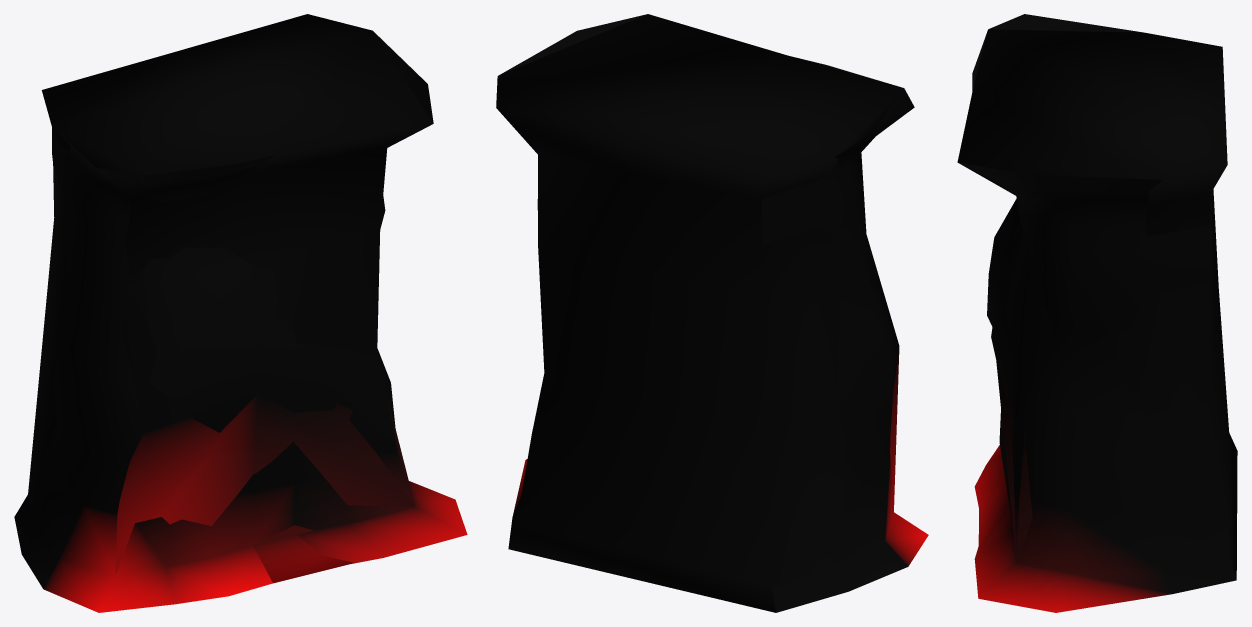
Rendered from JD_Cave_A_Wall_Large_01.fbx.
3 views of the same model, side by side, from view 1: azimuth 30°, elevation 25°; view 2: azimuth 150°, elevation 25°; view 3: azimuth 270°, elevation 25° (orthographic). The views are drawn at different scales.
Visible parts, largest first — view 1: C_JD_Cave_A_Wall_Large_01, JD_Cave_A_Wall_Large_01; view 2: C_JD_Cave_A_Wall_Large_01, JD_Cave_A_Wall_Large_01; view 3: JD_Cave_A_Wall_Large_01, C_JD_Cave_A_Wall_Large_01.
Boxes of the visible parts, x1,y1,x2,y2 form: C_JD_Cave_A_Wall_Large_01: (28,14,433,583); JD_Cave_A_Wall_Large_01: (14,31,467,612); C_JD_Cave_A_Wall_Large_01: (496,14,903,612); JD_Cave_A_Wall_Large_01: (500,14,928,612); JD_Cave_A_Wall_Large_01: (958,14,1236,612); C_JD_Cave_A_Wall_Large_01: (957,29,1237,578).
Size of the model in its own units: 10.07 by 10.58 by 6.33.
